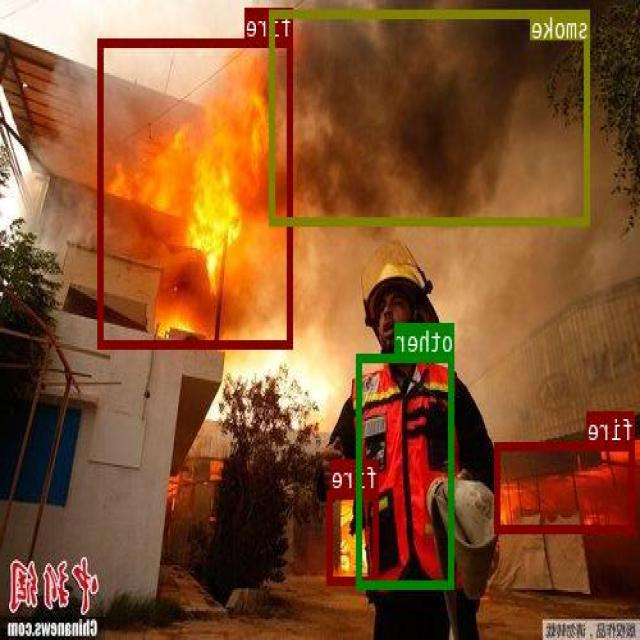fire: (99, 38, 293, 347), (497, 441, 636, 531), (328, 489, 379, 582)
other: (358, 352, 454, 587)
smoke: (271, 8, 590, 223)
